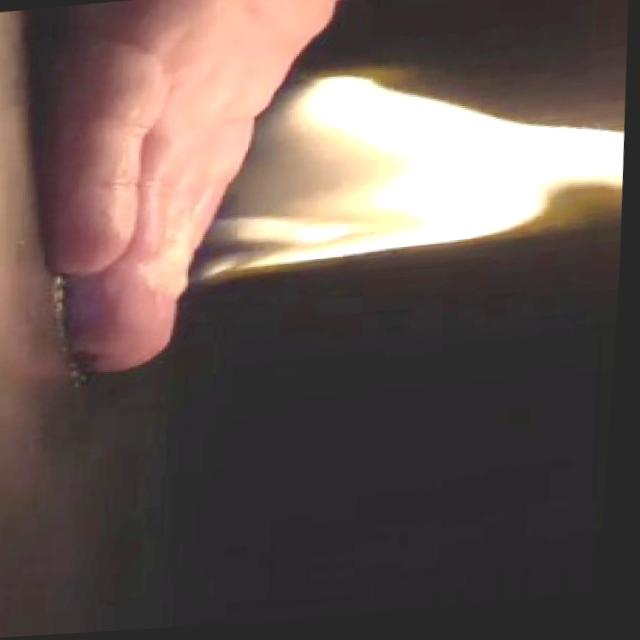helmet: (175, 51, 635, 293)
